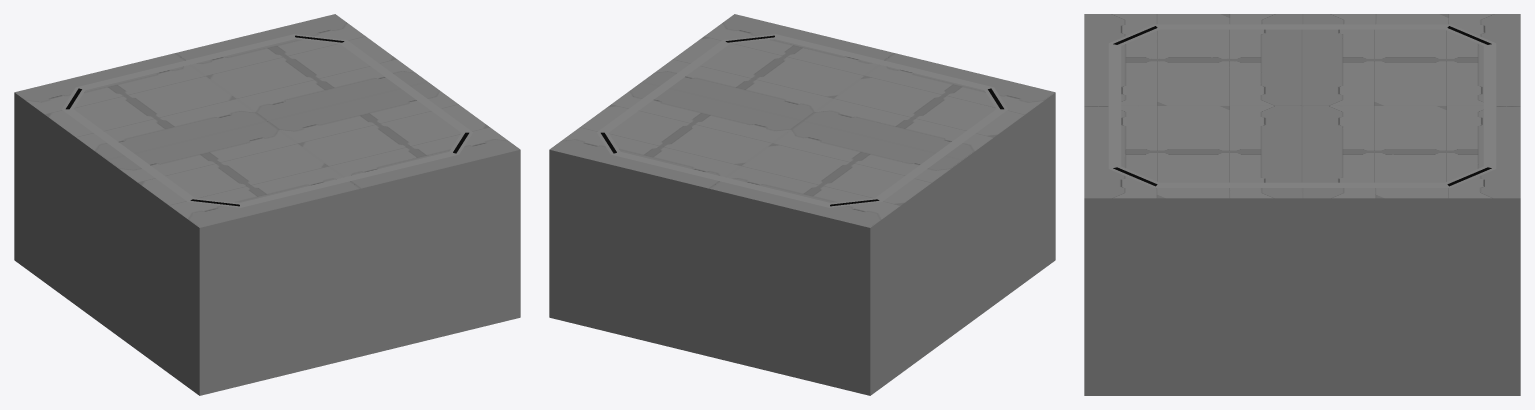
File: SM_Floor_10x10_3.fbx
3 renders of one model, left to right at view 1: azimuth 30°, elevation 25°; view 2: azimuth 150°, elevation 25°; view 3: azimuth 270°, elevation 25°, orthographic. The views are drawn at different scales.
Parts seen in each view (by area): view 1: SM_Floor_10x10_3; view 2: SM_Floor_10x10_3; view 3: SM_Floor_10x10_3.
Part boxes in pixels (left/top/right/bottom): SM_Floor_10x10_3: left=14, top=14, right=520, bottom=395; SM_Floor_10x10_3: left=549, top=14, right=1055, bottom=395; SM_Floor_10x10_3: left=1084, top=14, right=1520, bottom=395.
Bounding box in the file's own units: 1000 × 500 × 1000.
